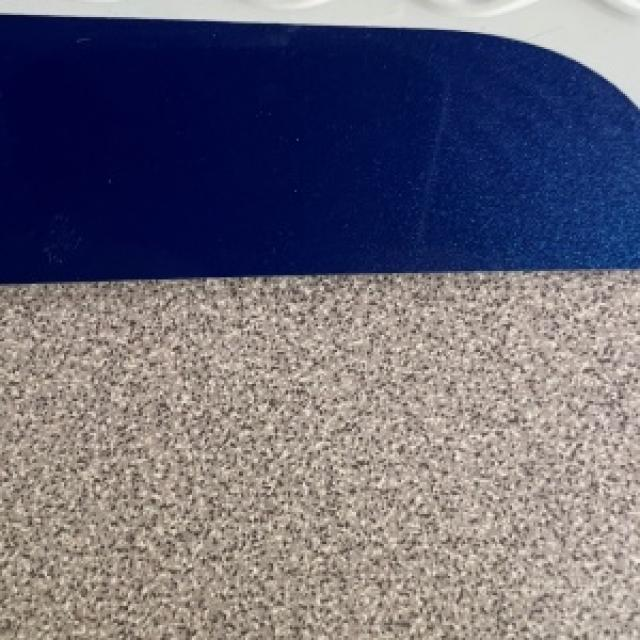healthy: (0, 0, 638, 638), (0, 13, 638, 279)
